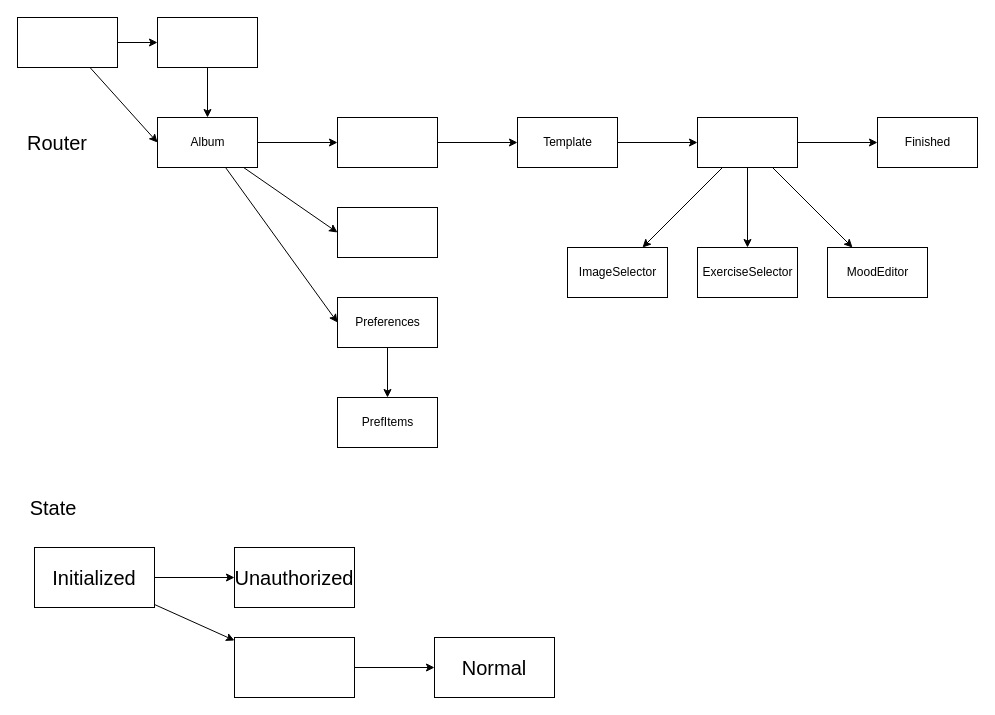
This 995x715 diagram has some shape labels left out. The shapes that lost their labels are listed below. From the top down, each one's centre as x and y in pixels, then its label:
At (67,42): "Splash".
At (207,42): "Login".
At (387,142): "Creator".
At (747,142): "ItemEditor".
At (387,232): "Poster".
At (294,667): "Authorized".
